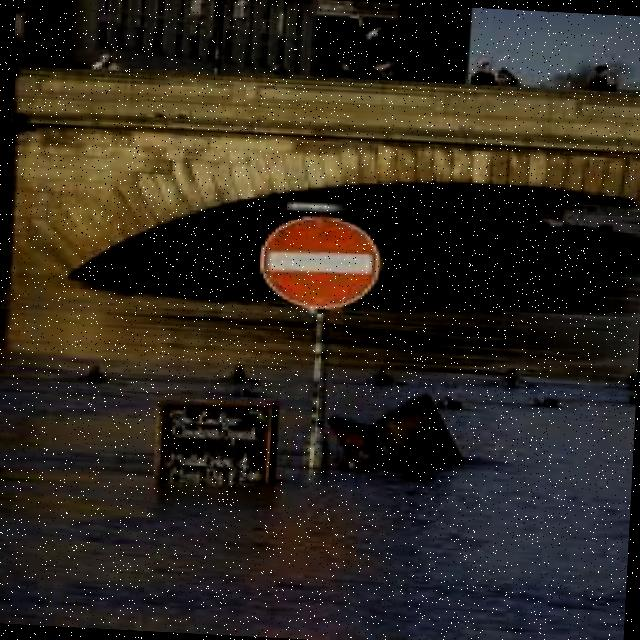Zakaz wjazdu: (254, 207, 392, 318)
